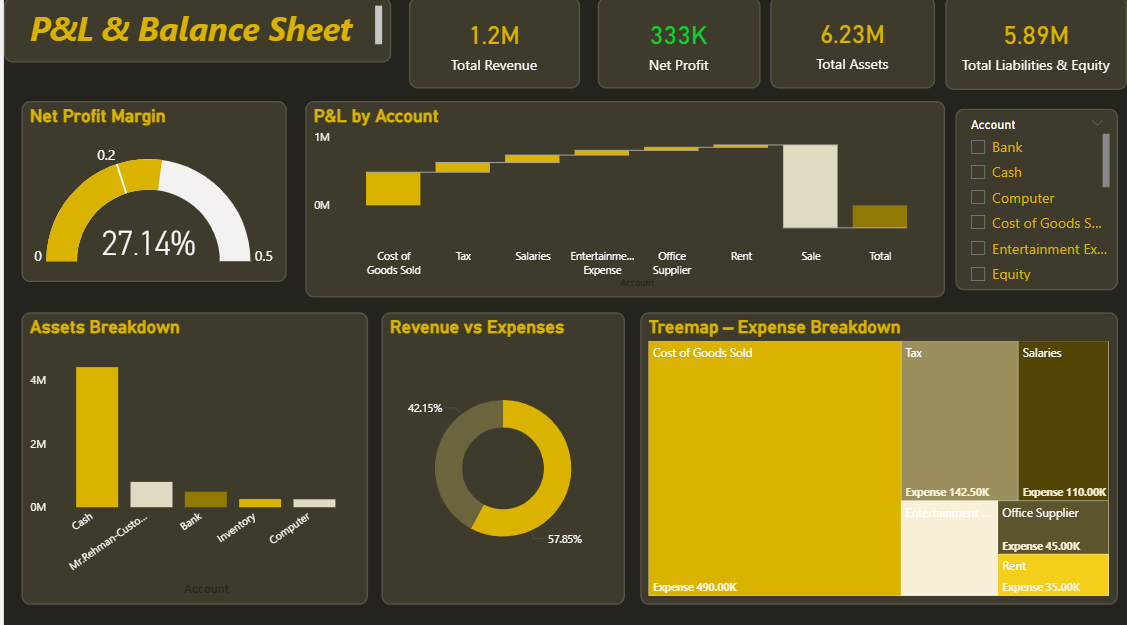

What the dashboard file says about the page in this screenshot:
{"tool":"powerbi","page":{"name":"executive Summary","canvas":[1280,720],"ordinal":0},"visuals":[{"type":"card","fields":{"Values":["Trail Balance.Total Revenue"]},"box":[462.4,1.4,194.9,104.3],"z":0},{"type":"card","fields":{"Values":["Trail Balance.Net Profit"]},"box":[676.5,1.4,185.2,104.3],"z":1000},{"type":"card","fields":{"Values":["Trail Balance.Total Assets"]},"box":[874.1,0,188,105.7],"z":2000},{"type":"card","fields":{"Values":["Trail Balance.Total Liabilities & Equity"]},"box":[1073.1,0,207.2,107],"z":3000},{"type":"textbox","box":[0,1.4,441.9,74.1],"z":3001},{"type":"waterfallChart","title":"P&L by Account","fields":{"Category":["Trail Balance.Account","Trail Balance.Sub-Account"],"Y":["Sum(Trail Balance.Sum of Balance)"]},"box":[343.5,119.7,729.8,223.8],"z":3002},{"type":"donutChart","title":"Revenue vs Expenses","fields":{"Y":["Trail Balance.Total Revenue","Trail Balance.Total Expenses"]},"box":[430.5,360.6,278,333.5],"z":3003},{"type":"gauge","title":"Net Profit Margin","fields":{"Y":["Trail Balance.Net Profit Margin"],"MinValue":["Trail Balance.Gauge Min"],"TargetValue":["Trail Balance.Gauge Target"],"MaxValue":["Trail Balance.Max Margin"]},"box":[20,119.7,302.2,206.7],"z":3004},{"type":"slicer","fields":{"Values":["Trail Balance.Account"]},"box":[1084.1,127.6,185.2,207.2],"z":3005},{"type":"clusteredColumnChart","title":"Assets Breakdown","fields":{"Category":["Trail Balance.Account"],"Y":["Sum(Trail Balance.Sum of Balance)"]},"box":[20,360.6,394.8,333.5],"z":3006},{"type":"columnChart","fields":{"Category":["Trail Balance.Account"],"Y":["Trail Balance.Liability Balance"]},"box":[786.8,382,330.7,208.1],"z":3007},{"type":"treemap","title":"Treemap – Expense Breakdown","fields":{"Group":["Trail Balance.Account"],"Details":["Trail Balance.Sub-Account"],"Values":["Trail Balance.Expense Amount Absolute"]},"box":[725.5,360.6,544.5,333.5],"z":3008}]}

Visuals, with their boxes in screenshot pixels (x1, y1, x2, y2), scaled from the page's 1280x720 canvas onto the 1127x625 screenshot:
card - Trail Balance.Total Revenue: box=[407, 1, 579, 92]
card - Trail Balance.Net Profit: box=[596, 1, 759, 92]
card - Trail Balance.Total Assets: box=[770, 0, 935, 92]
card - Trail Balance.Total Liabilities & Equity: box=[945, 0, 1126, 93]
textbox: box=[0, 1, 389, 66]
"P&L by Account" waterfallChart: box=[302, 104, 945, 298]
"Revenue vs Expenses" donutChart: box=[379, 313, 624, 603]
"Net Profit Margin" gauge: box=[18, 104, 284, 283]
slicer - Trail Balance.Account: box=[955, 111, 1118, 291]
"Assets Breakdown" clusteredColumnChart: box=[18, 313, 365, 603]
columnChart - Trail Balance.Account x Trail Balance.Liability Balance: box=[693, 332, 984, 512]
"Treemap – Expense Breakdown" treemap: box=[639, 313, 1118, 603]
